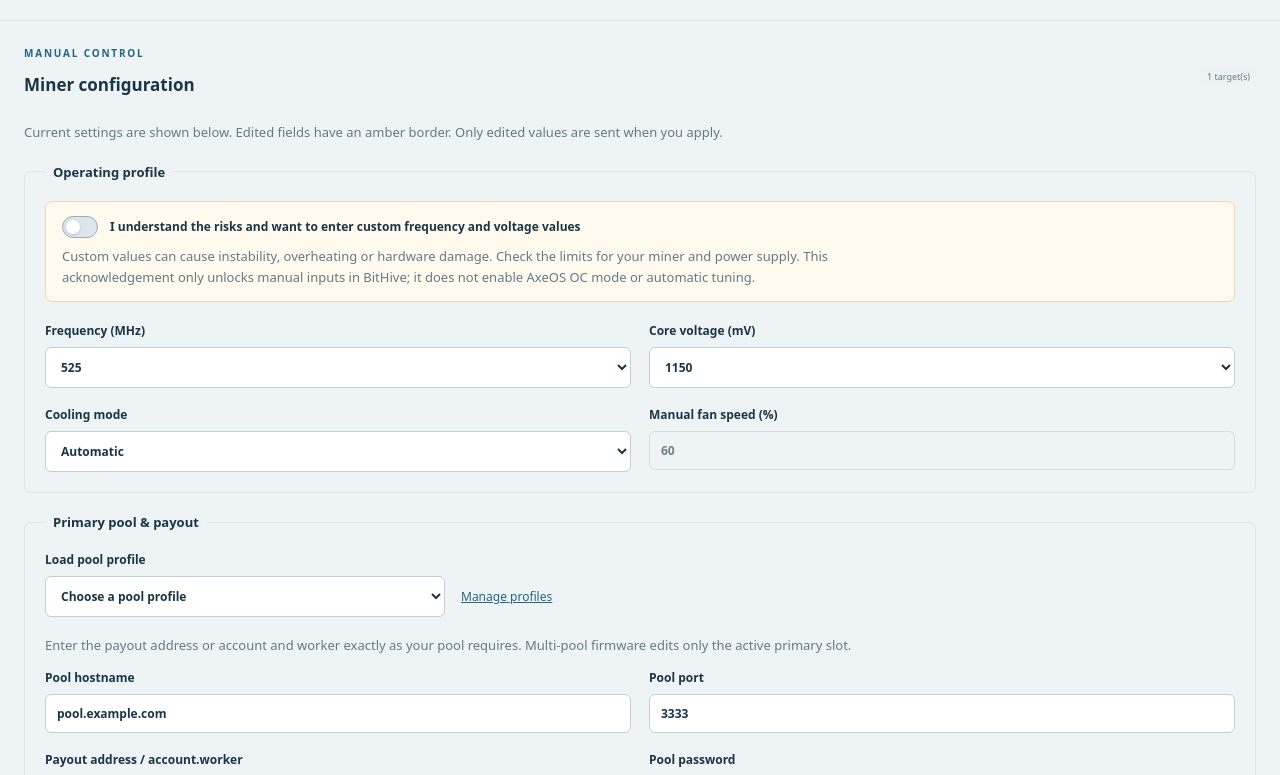
fleet interface › unlocks custom inputs only after acknowledgement and discards custom drafts when switched off
Click the switch at [80, 227], box [62,216,98,238]
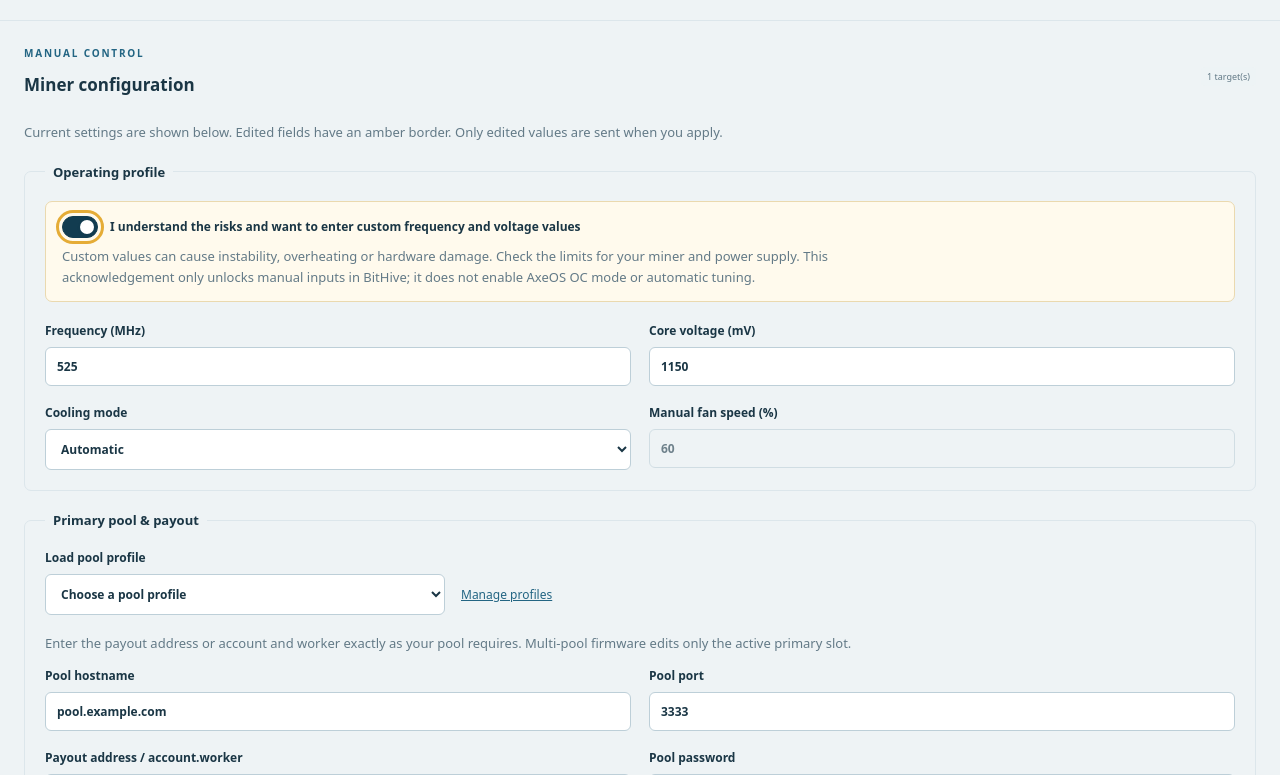
Replace the text in the number field labelled "Frequency (MHz)" with "537" at [338, 367], box [45,347,631,386]
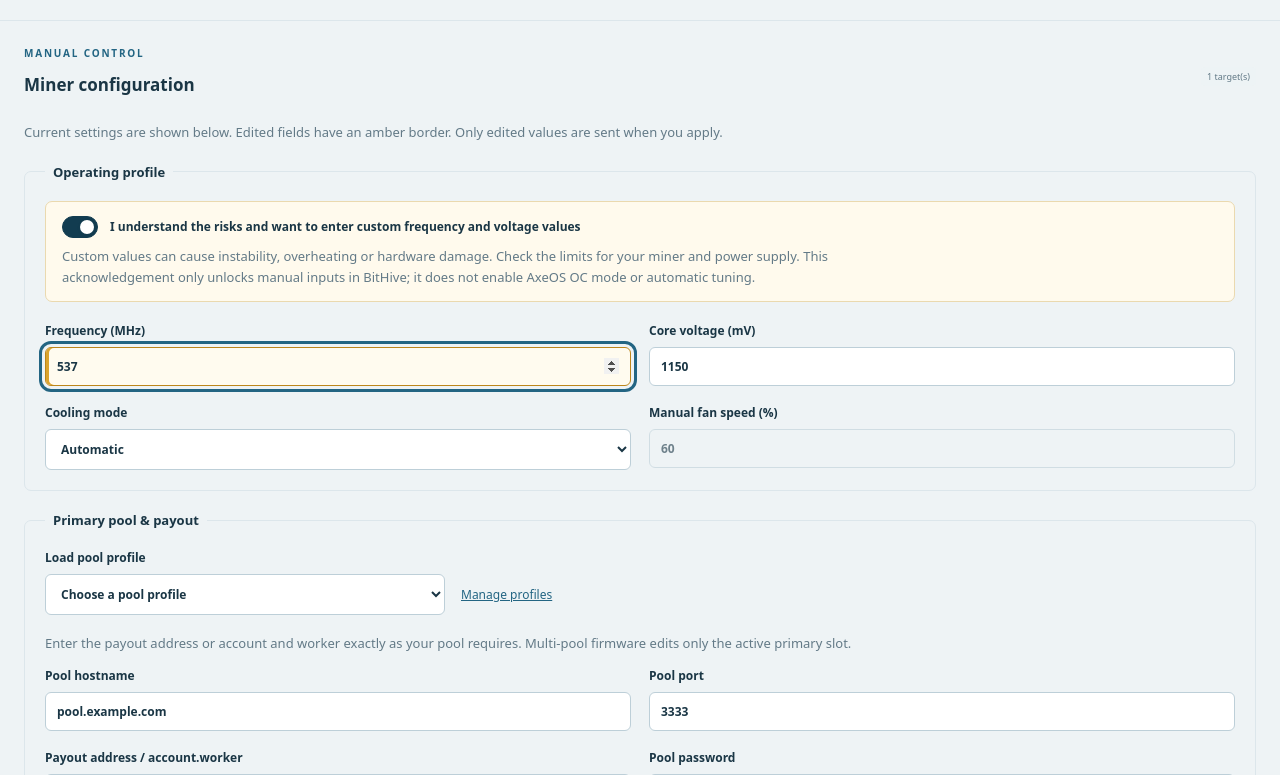
Replace the text in the number field labelled "Core voltage (mV)" with "1160" at [942, 367], box [649,347,1235,386]
(page scrolled)
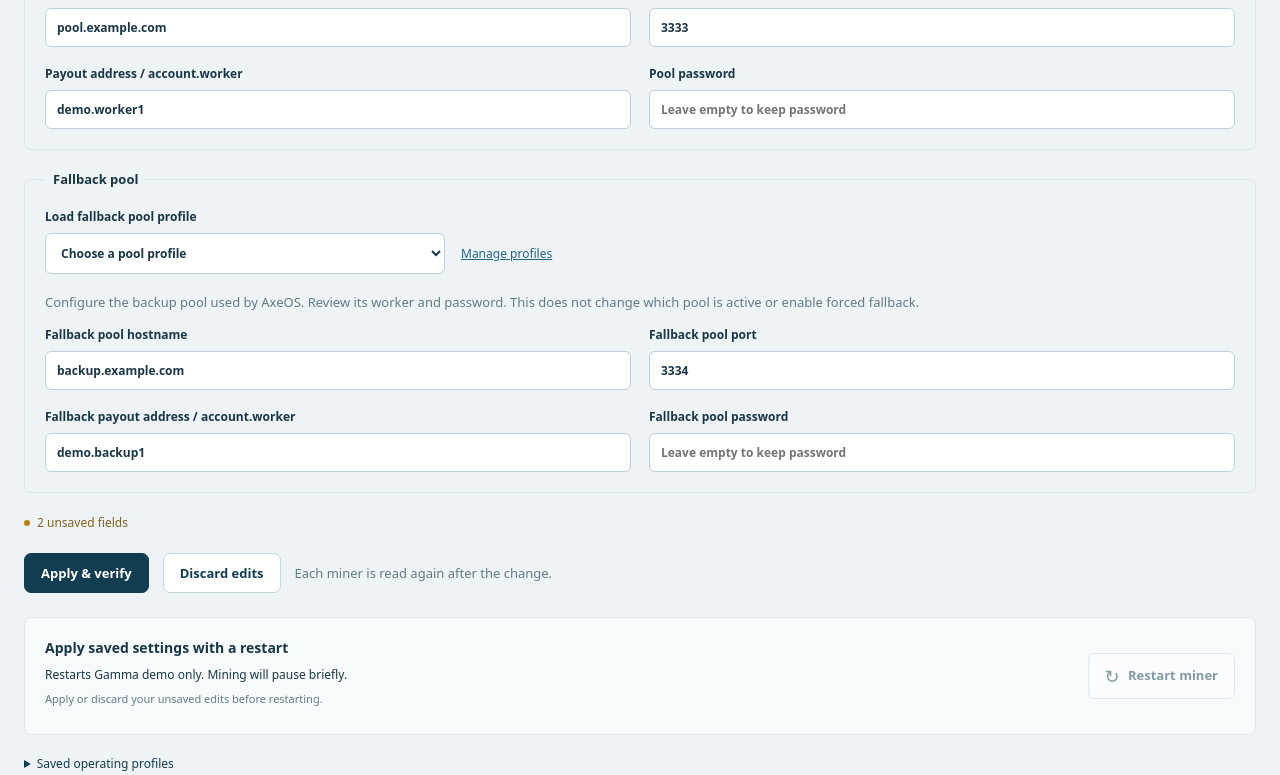
Click the button "Apply & verify" at [86, 573], box [24,553,149,593]
(page scrolled)
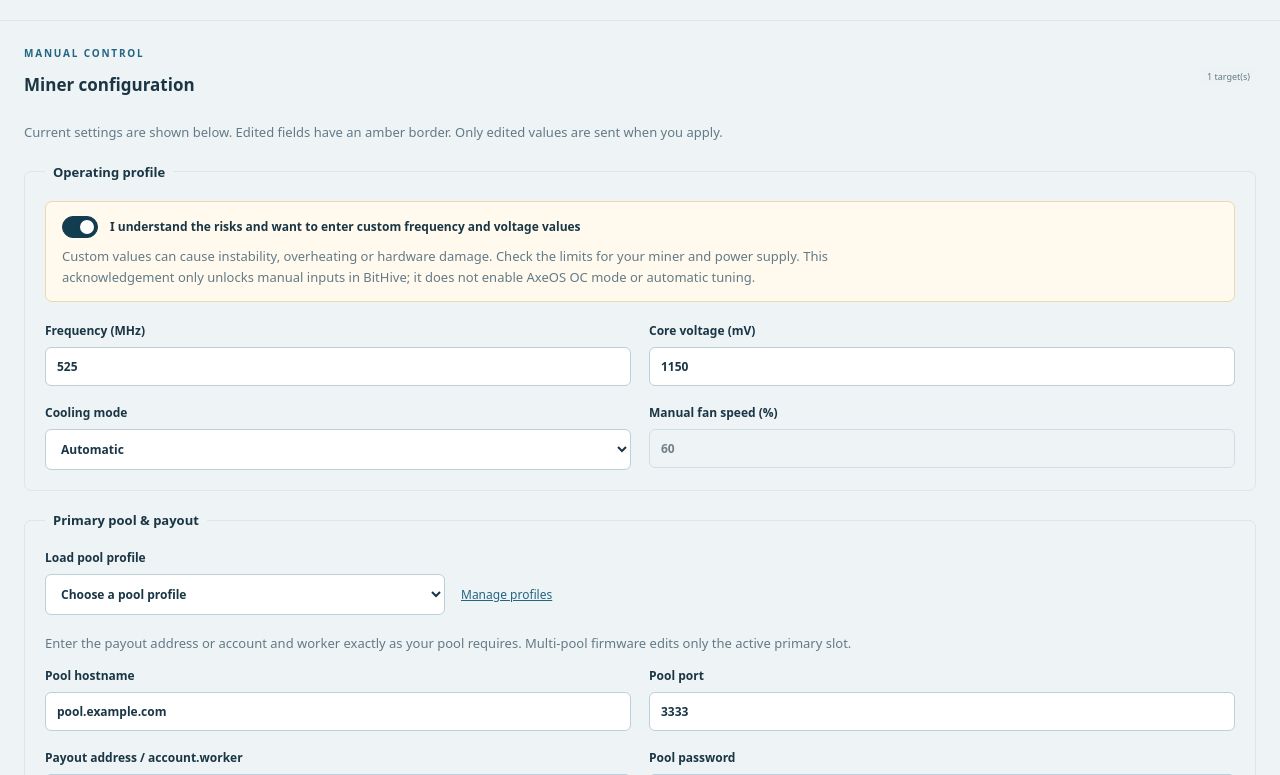
Now the number field labelled "Frequency (MHz)" holds "525"
Replace the text in the number field labelled "Frequency (MHz)" with "538" at [338, 367], box [45,347,631,386]
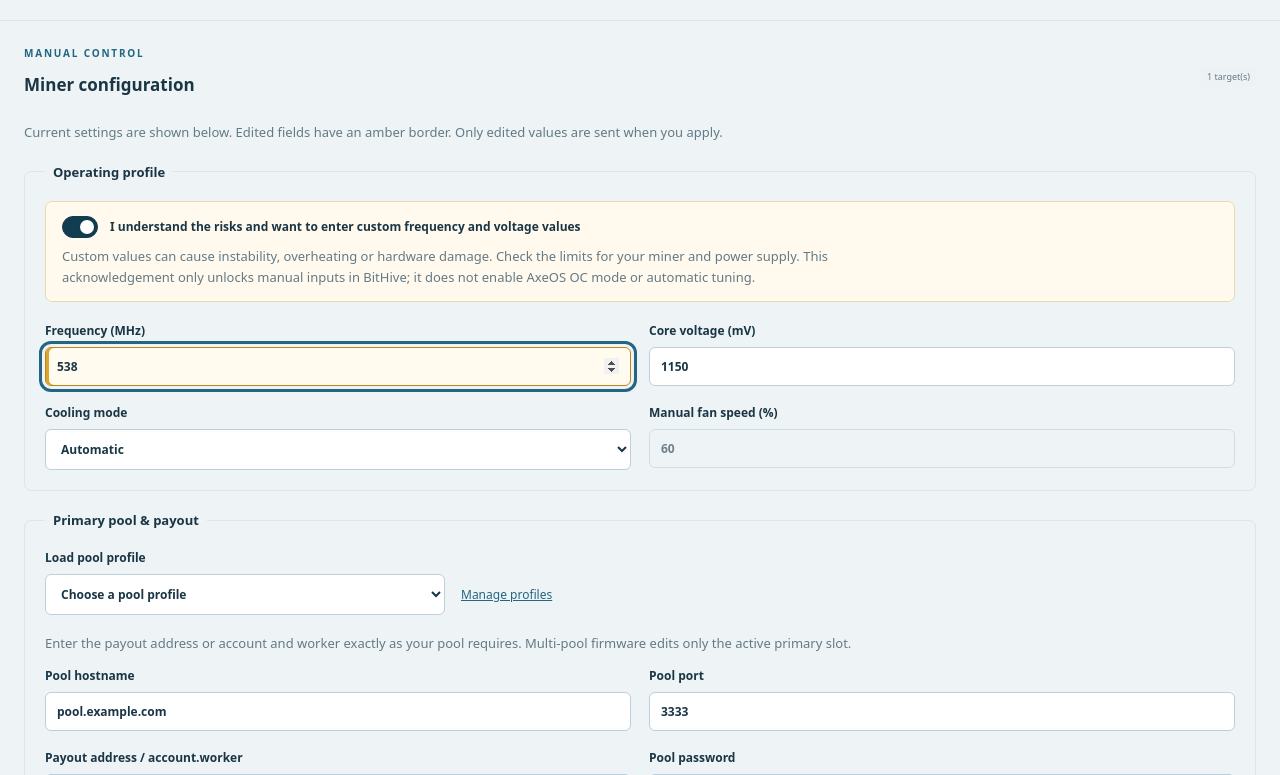
Click the switch at [80, 227], box [62,216,98,238]
(page scrolled)
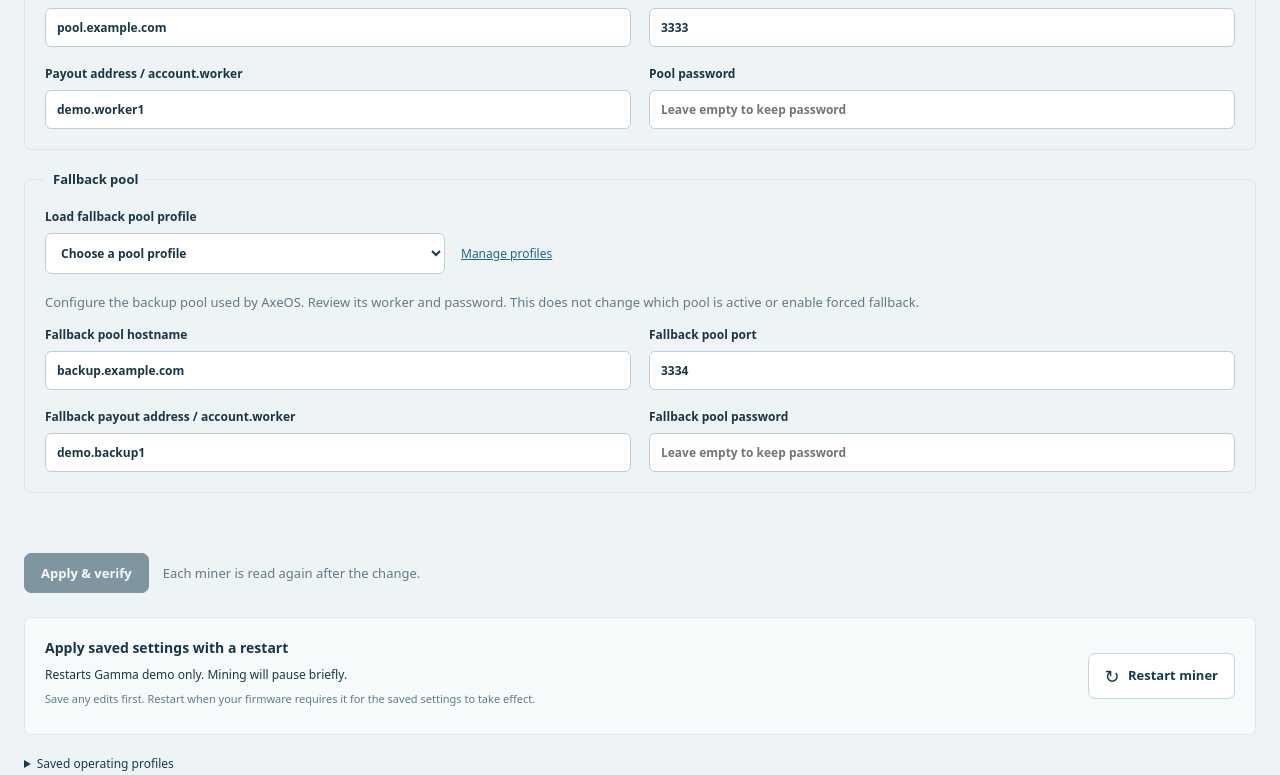
Now the button "Apply & verify" is disabled, box [24,553,149,593]
